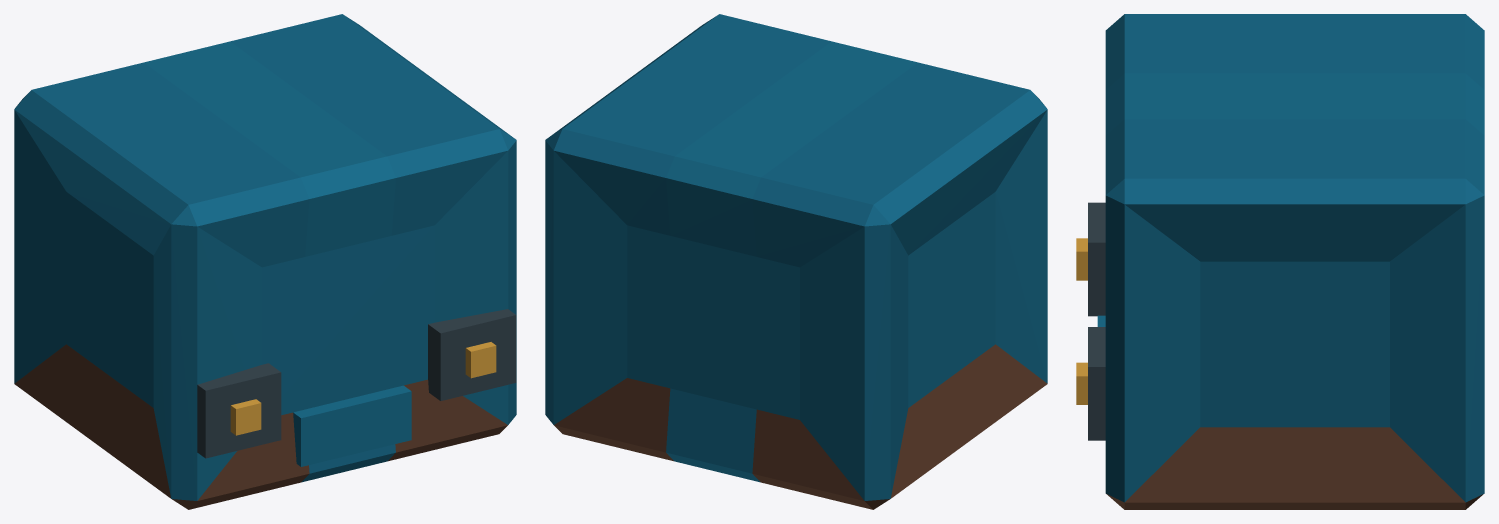
File: small-crate-sky.glb
3 renders of one model, left to right at view 1: azimuth 30°, elevation 25°; view 2: azimuth 150°, elevation 25°; view 3: azimuth 270°, elevation 25°, orthographic. The views are drawn at different scales.
Visible parts, largest first — view 1: small-crate-sky; view 2: small-crate-sky; view 3: small-crate-sky.
Part boxes in pixels (x1,y1,x2,y2): small-crate-sky: (14, 14, 516, 509); small-crate-sky: (545, 14, 1047, 509); small-crate-sky: (1076, 14, 1484, 509).
Bounding box in the file's own units: 0.64 × 0.54 × 0.6033.
